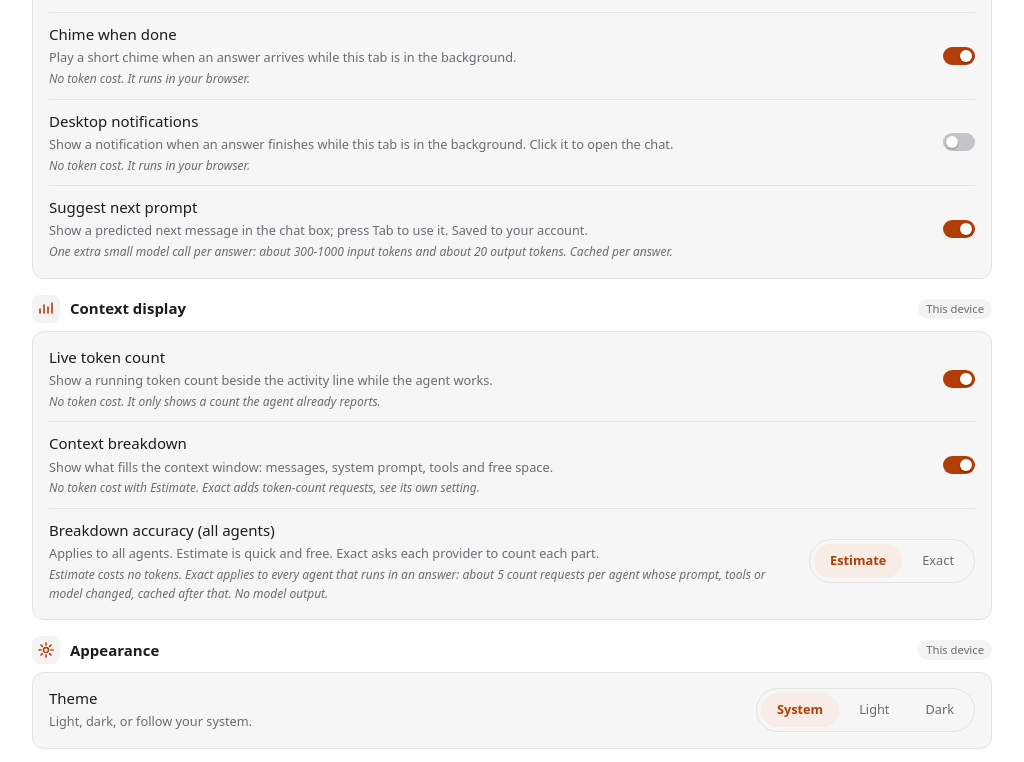
Test: SettingsView › applies context display switches instantly and locks the accuracy while the panel is hidden
(page scrolled)
Click the switch named "Live token count".
click(959, 379)  # box [943,370,975,388]
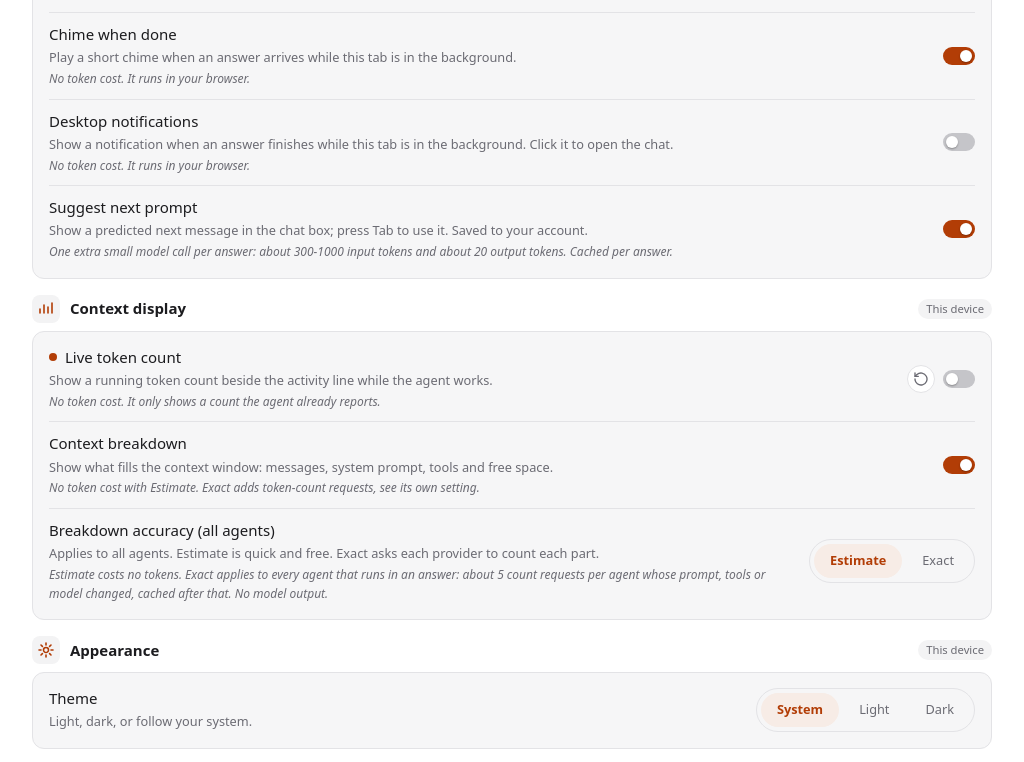
Click the button "Exact".
click(938, 561)  # box [906,544,970,578]
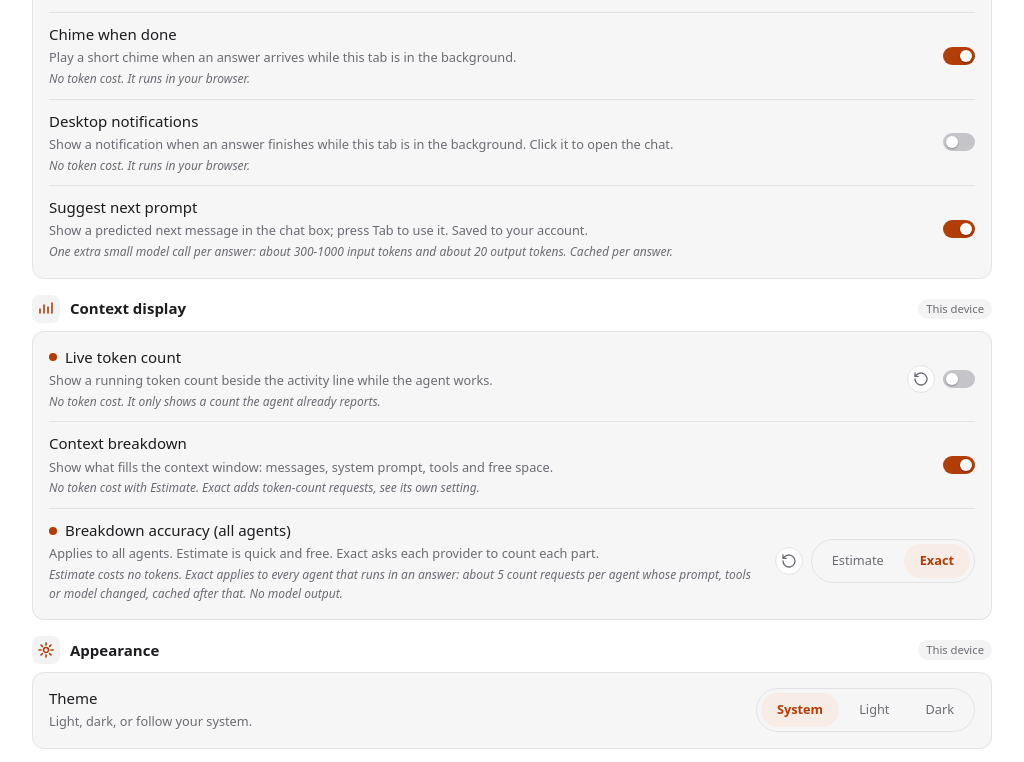
Click the switch named "Context breakdown".
click(959, 465)  # box [943,456,975,474]
(page scrolled)
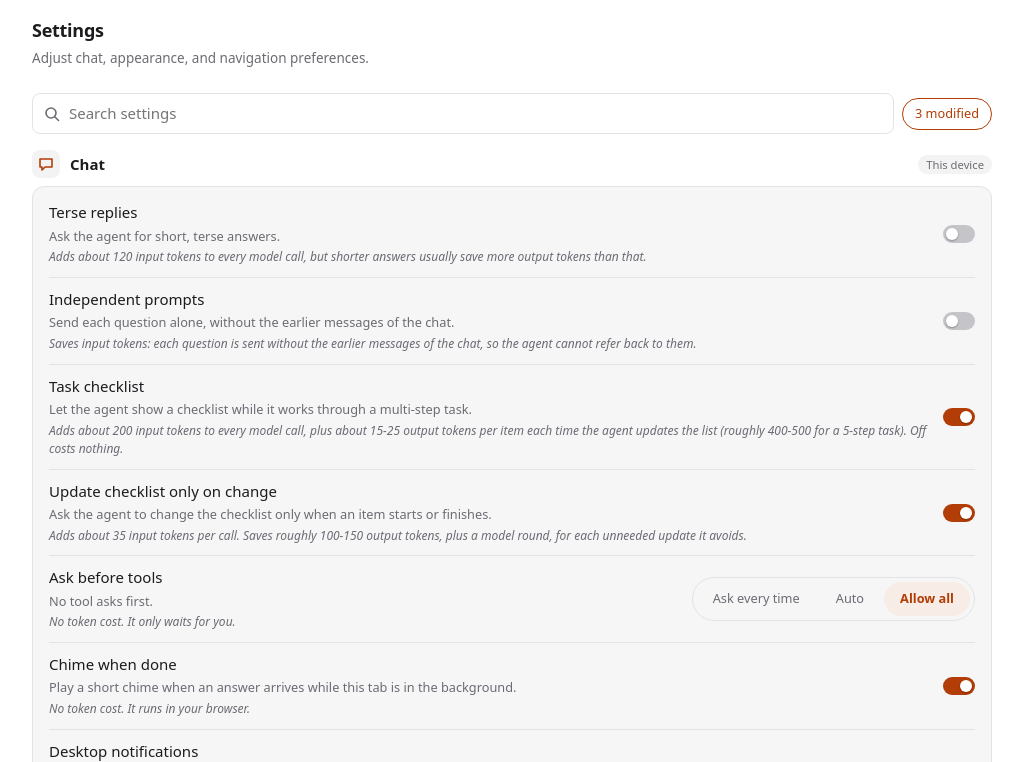
expect the button with class "badge" reads "3 modified": met, box [902,98,992,130]
